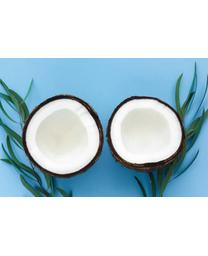coconut: (21, 93, 104, 178), (106, 95, 186, 169)
